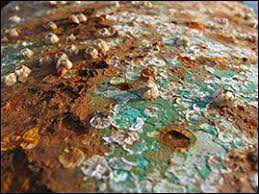rust: (5, 9, 116, 188), (202, 91, 256, 138), (166, 50, 235, 80), (149, 125, 201, 161), (113, 31, 159, 63), (111, 73, 141, 98), (136, 65, 161, 81)
